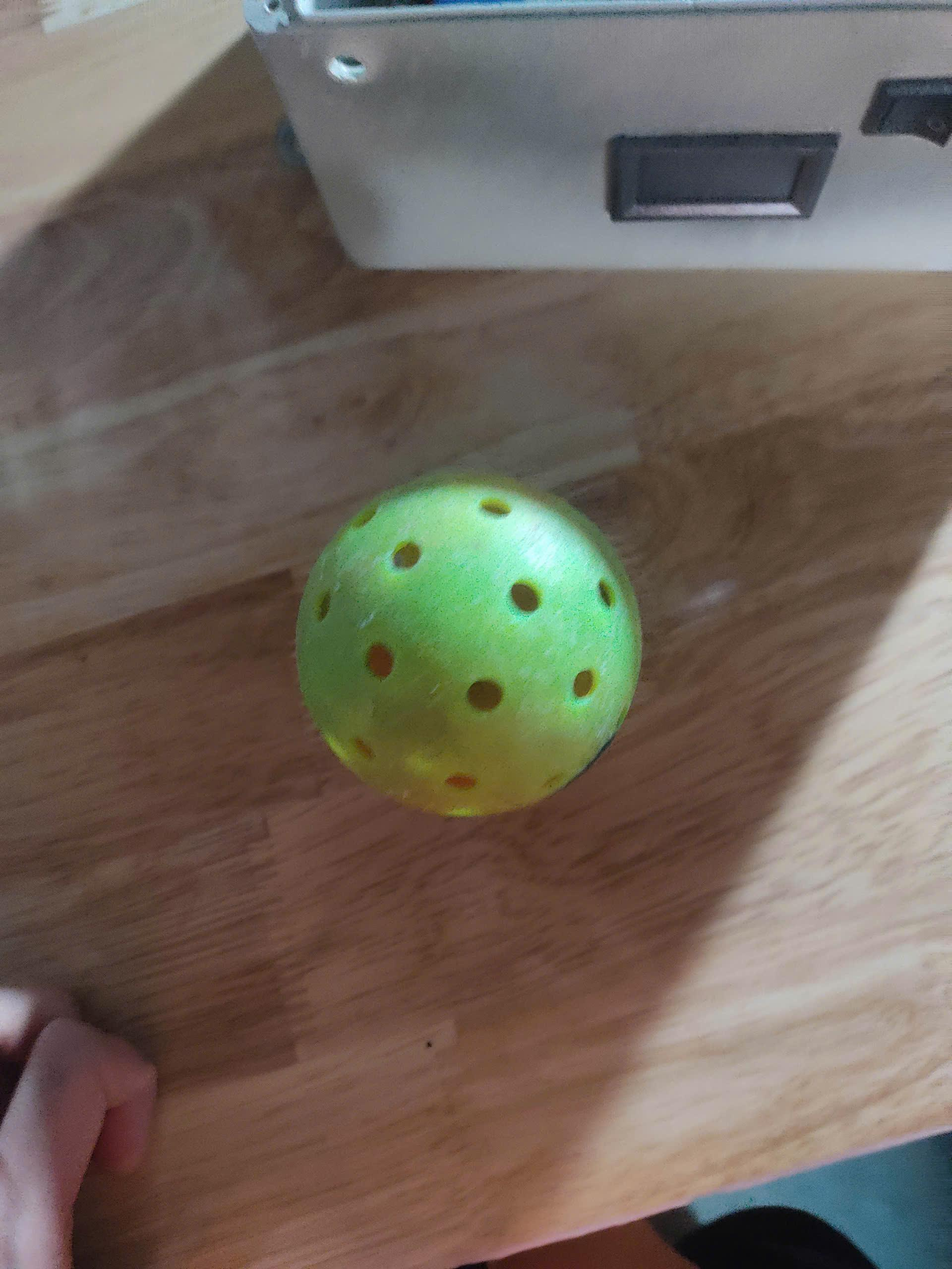ball: (280, 469, 654, 825)
